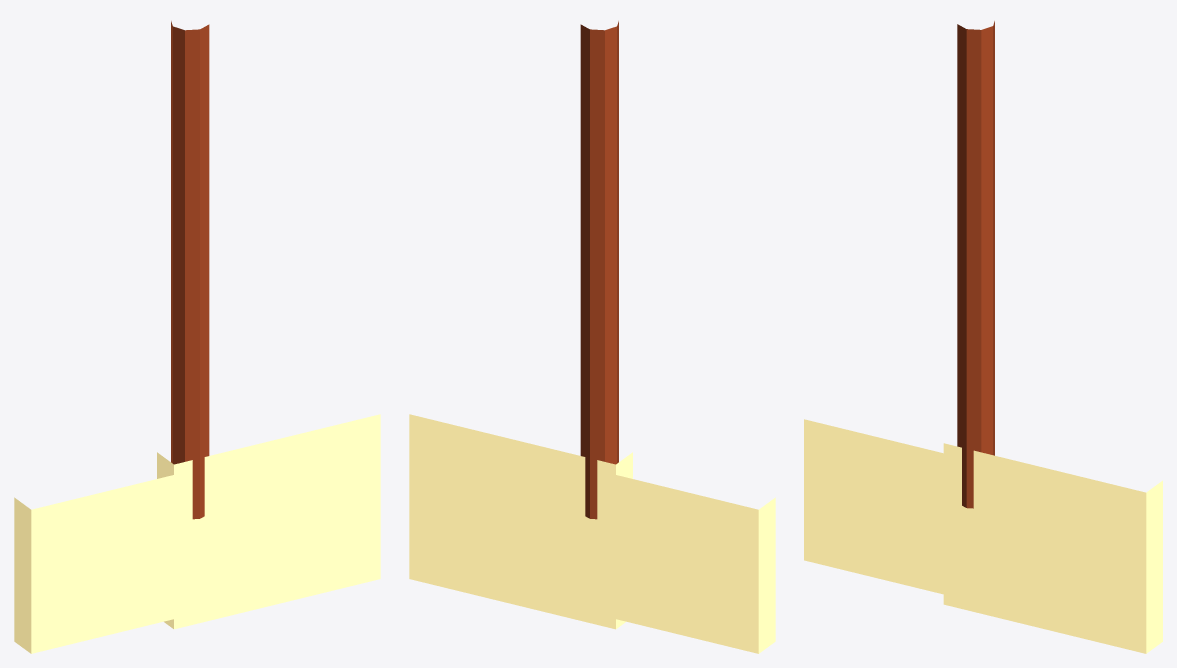
File: troll-warlord.glb
3 views of the same model, side by side, from view 1: azimuth 30°, elevation 25°; view 2: azimuth 150°, elevation 25°; view 3: azimuth 330°, elevation 25° (orthographic). The views are drawn at different scales.
Visible parts, largest first — view 1: troll-warlord-blade, troll-warlord-back-blade, troll-warlord-haft; view 2: troll-warlord-blade, troll-warlord-back-blade, troll-warlord-haft; view 3: troll-warlord-blade, troll-warlord-back-blade, troll-warlord-haft.
Part boxes in pixels (bbox=[...]): troll-warlord-blade: bbox=[157, 414, 380, 629]; troll-warlord-back-blade: bbox=[14, 466, 208, 653]; troll-warlord-haft: bbox=[171, 21, 209, 519]; troll-warlord-blade: bbox=[409, 414, 632, 629]; troll-warlord-back-blade: bbox=[581, 466, 775, 653]; troll-warlord-haft: bbox=[580, 21, 618, 519]; troll-warlord-blade: bbox=[943, 443, 1162, 653]; troll-warlord-back-blade: bbox=[804, 419, 977, 602]; troll-warlord-haft: bbox=[957, 21, 994, 508].
Bounding box in the file's own units: 0.71 × 1.16 × 0.07.
